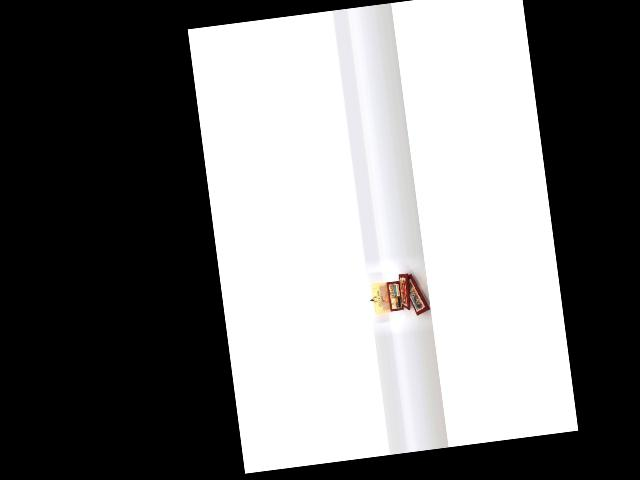chocolate: (403, 269, 434, 325)
